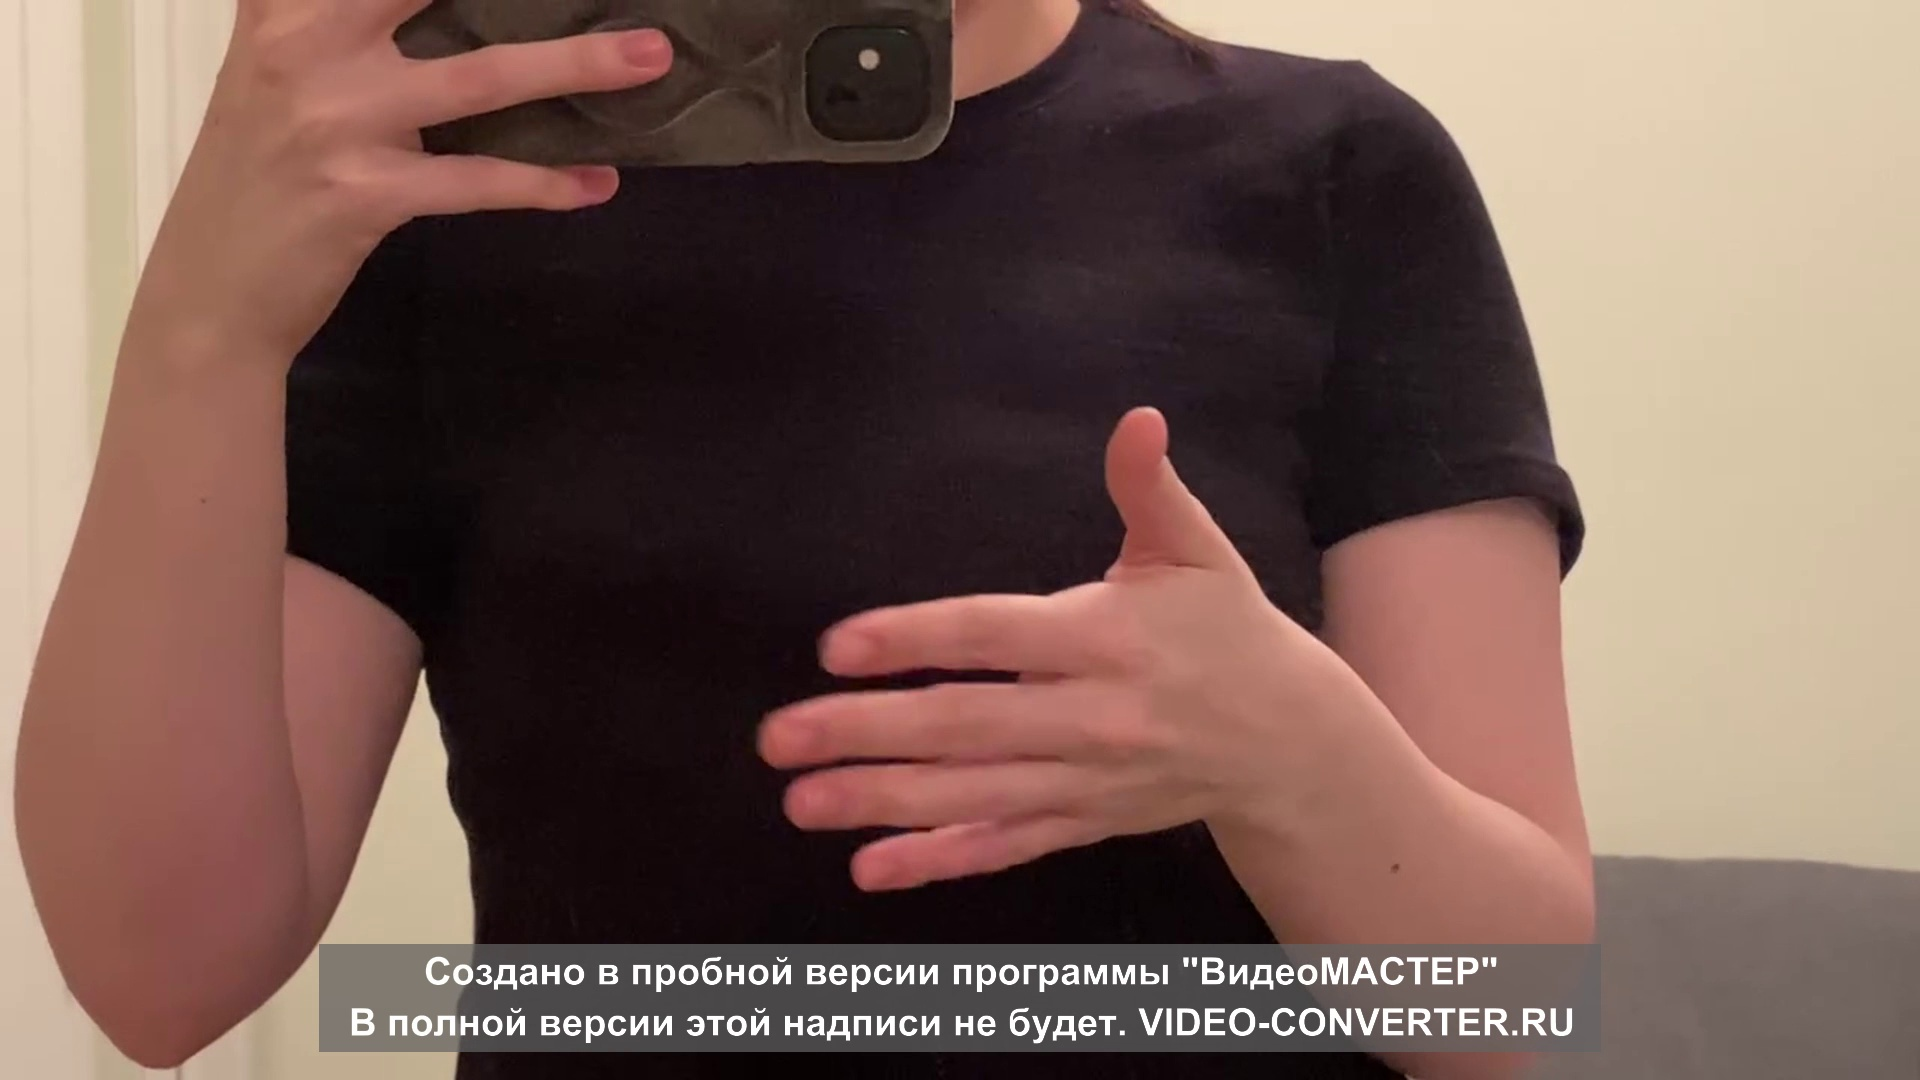Кисть: (760, 405, 1287, 893)
